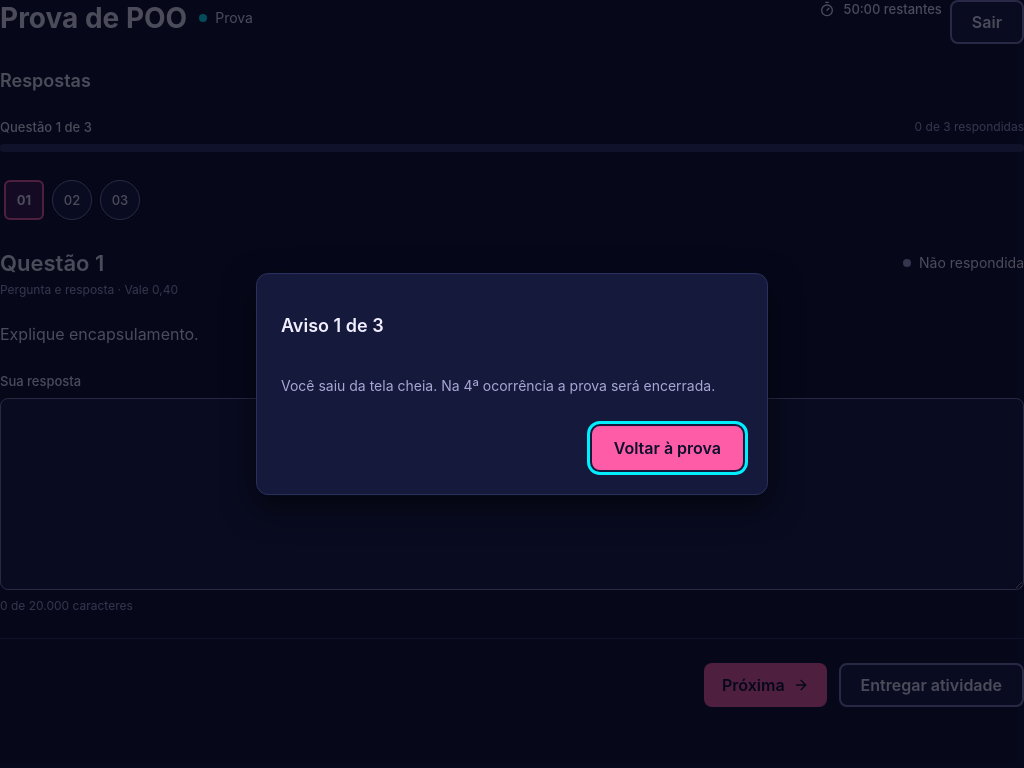
it: 018/US4 avisos e encerramento na página da prova › 018/US4-1 018/FR-017 sair da tela cheia: o servidor conta 1 e a página mostra “Aviso 1 de 3”, sem o aviso da 015
Check: the element showing "50:00 restantes" is shown, box [819,0,942,18]
Check: the dialog "Aviso 1 de 3" shows "Você saiu da tela cheia. Na 4ª ocorrência a prova será encerrada.", box [256,273,768,495]
What coordinates should you click on to do the following:
click the button "Voltar à prova"
I would click on:
 (667, 448)
Its box is [592,426,743,470].
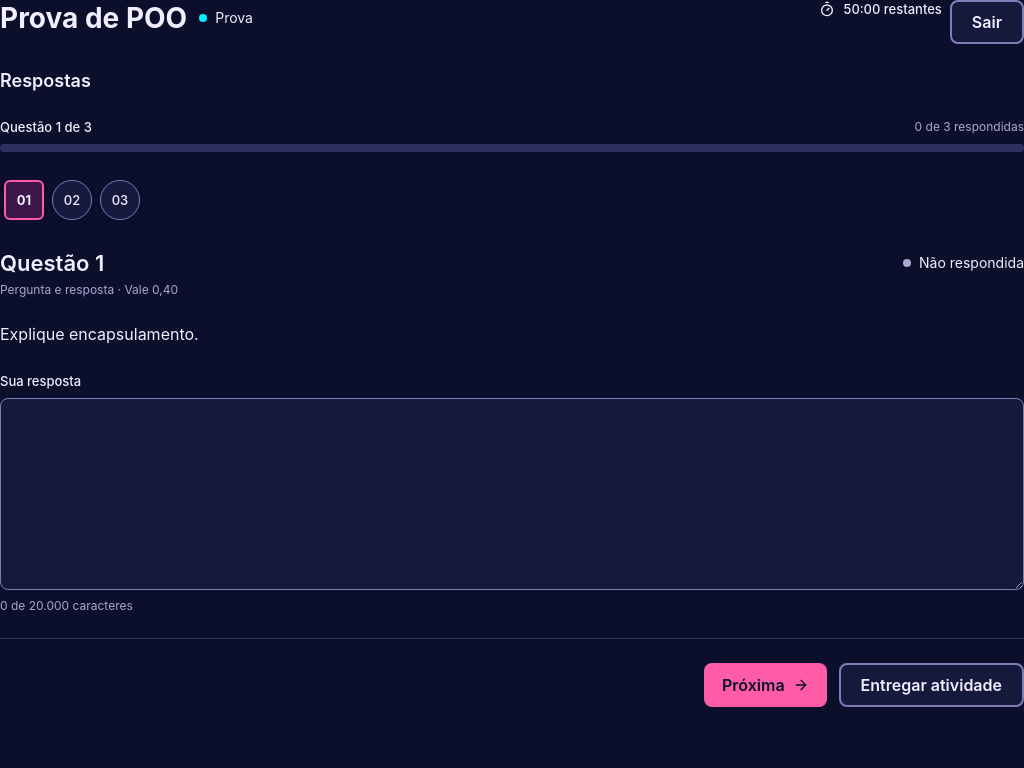
Check: the dialog is gone
